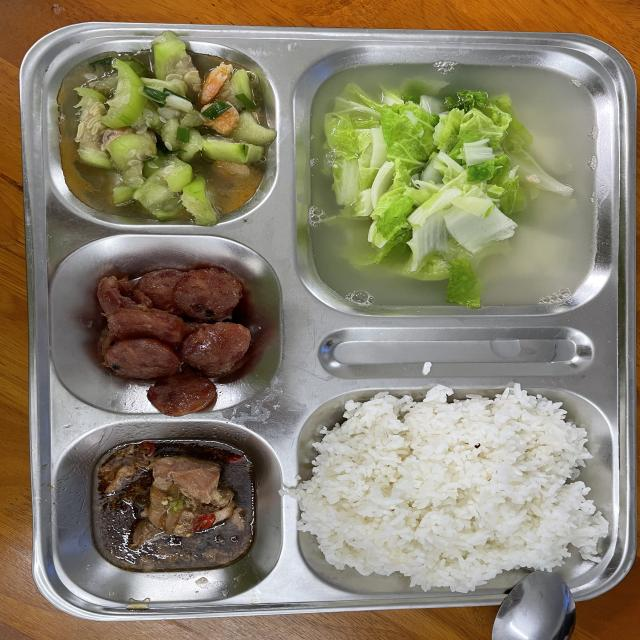ca kho: (94, 440, 256, 571)
canh cai: (315, 69, 583, 298)
com: (291, 384, 608, 591)
rau: (69, 31, 275, 225)
